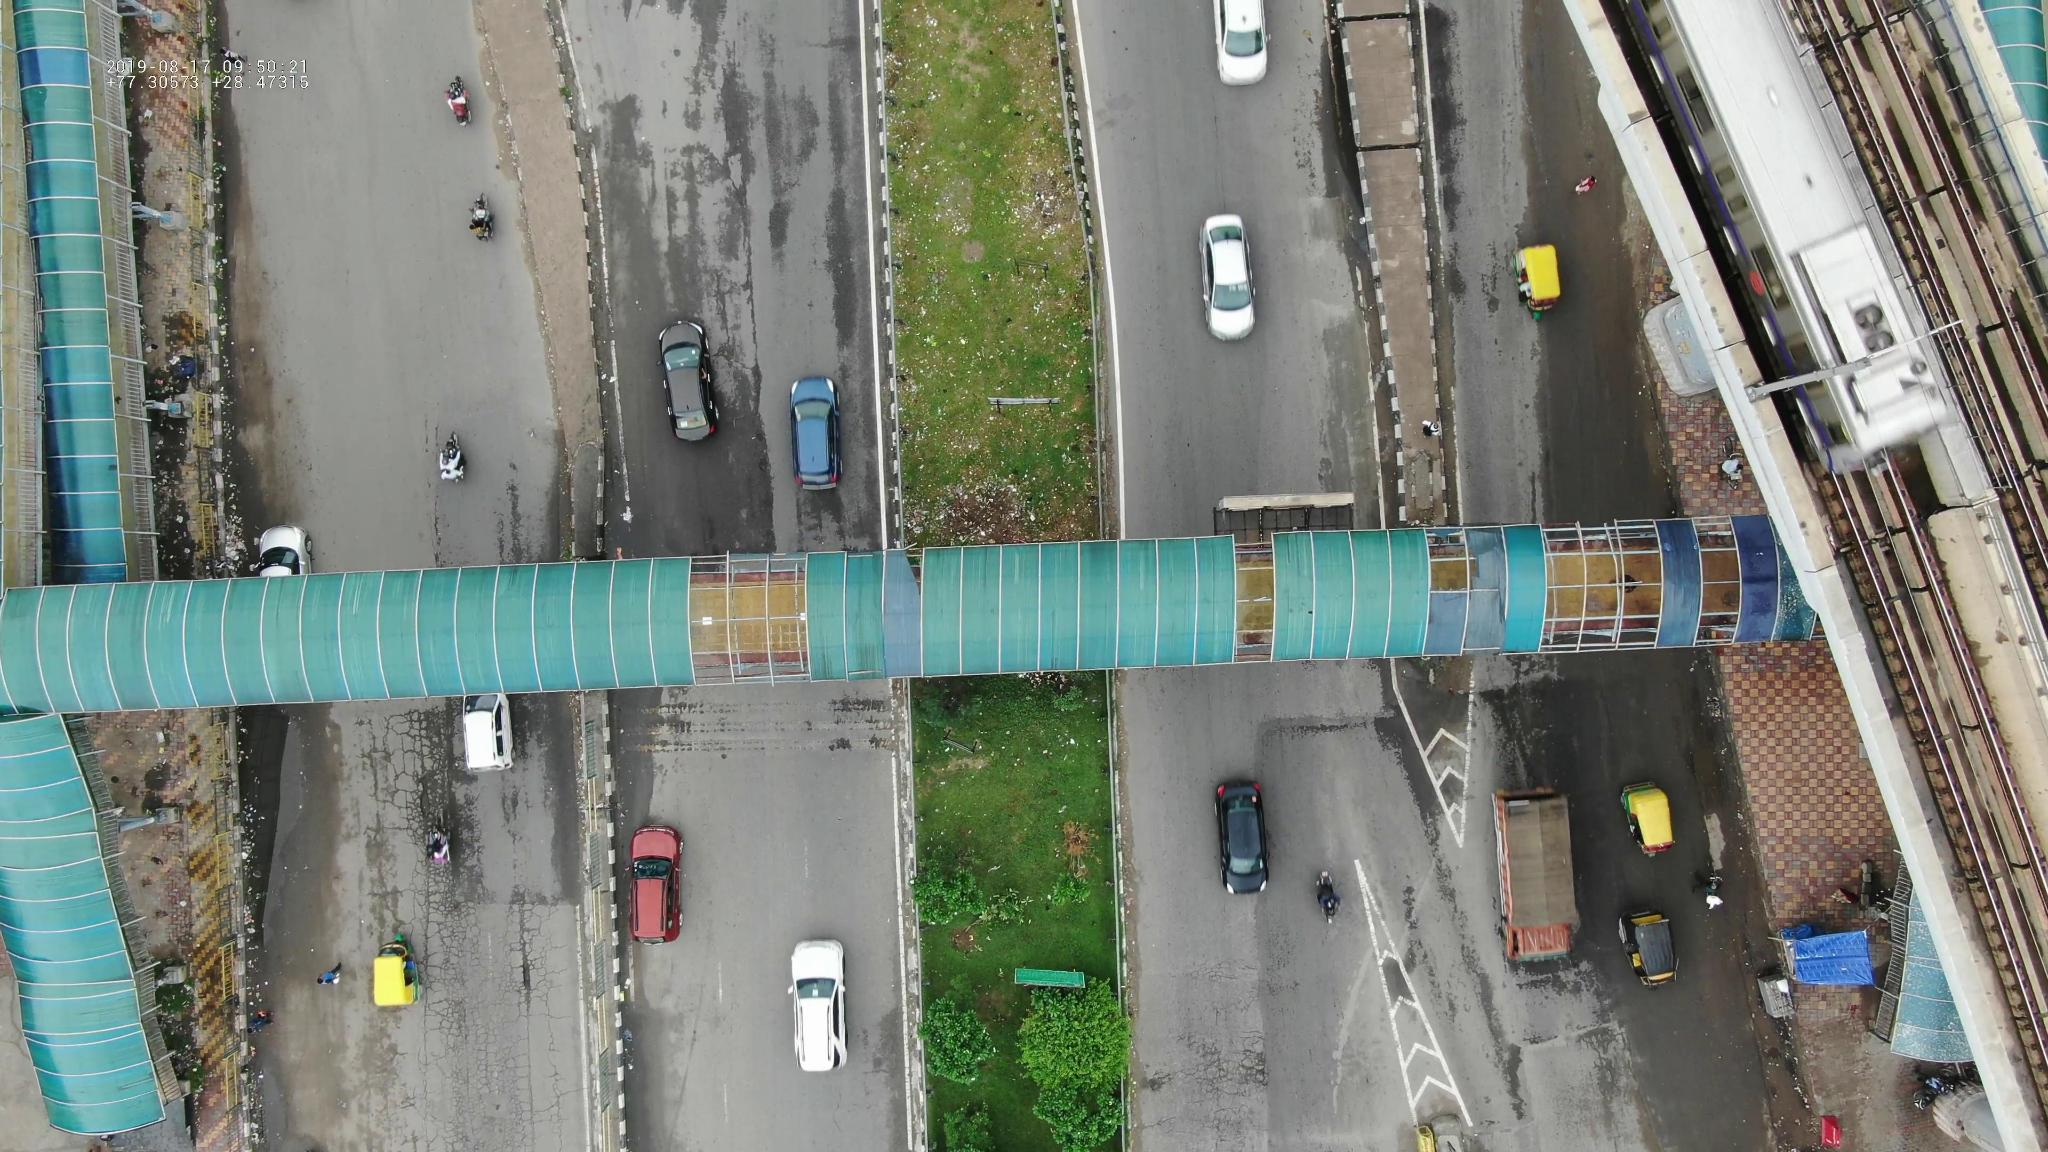Cracks: (421, 907, 563, 1089), (1141, 971, 1276, 1129), (373, 710, 466, 828)
